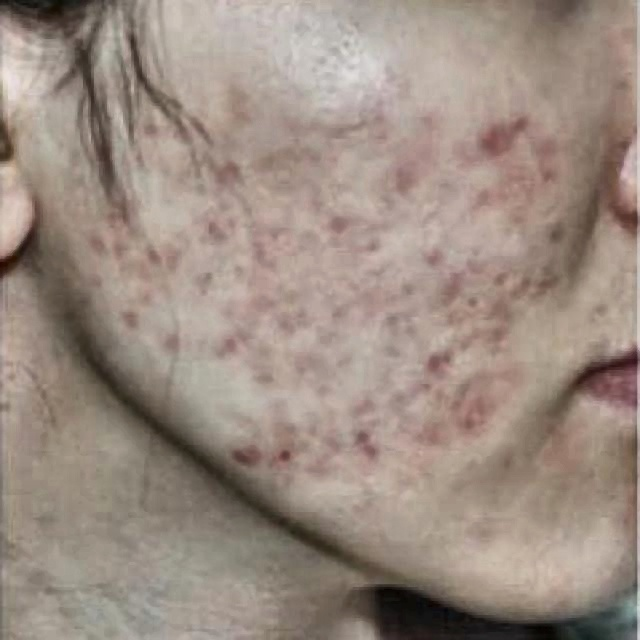comedone: (354, 420, 388, 463), (201, 217, 240, 253), (526, 157, 566, 192), (422, 341, 456, 382), (509, 267, 542, 309), (226, 437, 261, 474), (214, 156, 250, 188), (83, 226, 111, 264), (140, 109, 168, 146), (292, 350, 323, 382), (328, 209, 359, 239), (419, 240, 449, 268), (458, 413, 490, 438), (270, 440, 298, 468), (477, 127, 498, 164), (119, 304, 146, 332), (213, 332, 246, 353), (115, 227, 133, 264), (504, 117, 534, 138), (140, 238, 156, 263)
